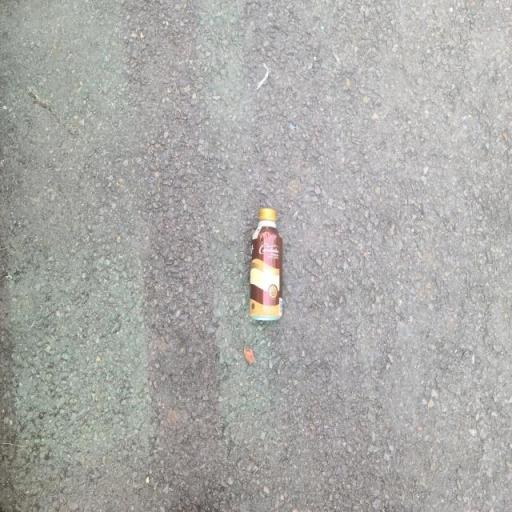metal: (203, 204, 308, 334)
